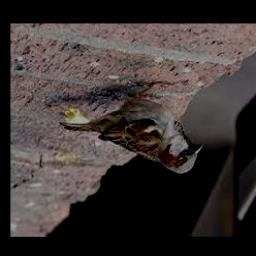Sparrow: (60, 83, 203, 175)
